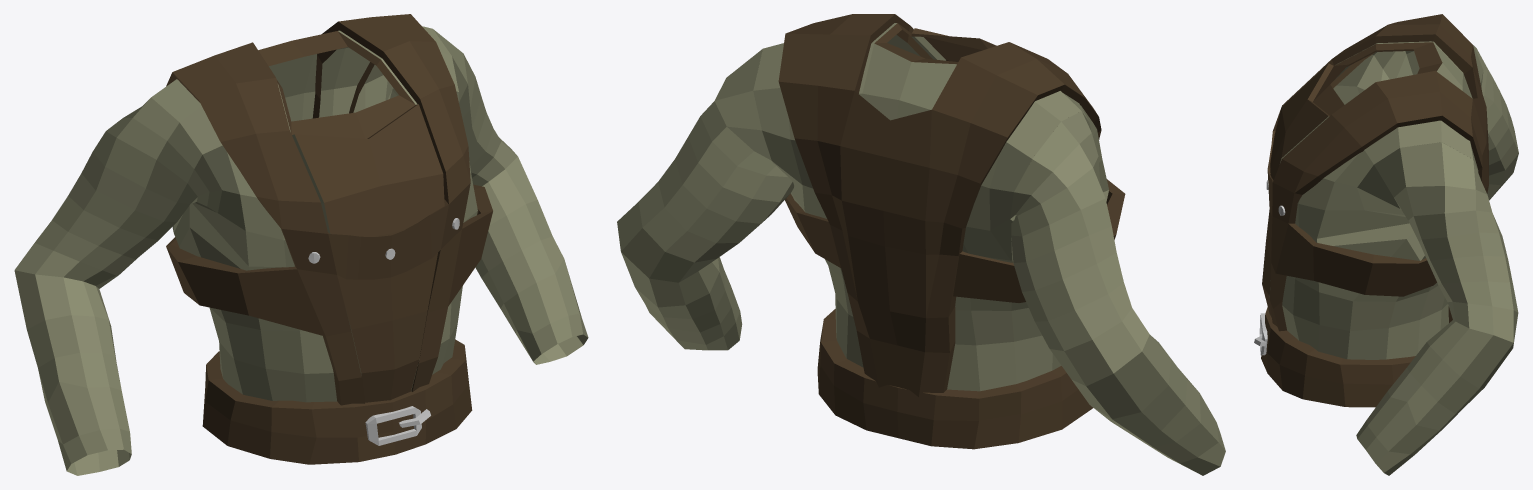
The model's file is Icon 2.fbx.
The picture shows the model from 3 angles, left to right: view 1: azimuth 30°, elevation 25°; view 2: azimuth 150°, elevation 25°; view 3: azimuth 270°, elevation 25°; orthographic projection. The views are drawn at different scales.
Parts seen in each view (by area): view 1: Leather 2 Chest; view 2: Leather 2 Chest; view 3: Leather 2 Chest.
Boxes of the visible parts, x1,y1,x2,y2 form: Leather 2 Chest: (14, 14, 588, 475); Leather 2 Chest: (617, 14, 1225, 475); Leather 2 Chest: (1254, 14, 1518, 475).
Size of the model in its own units: 88.25 by 59.35 by 44.66.
